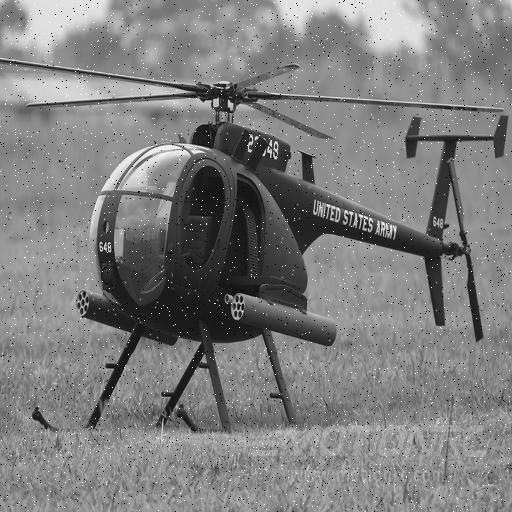helicopter: (8, 50, 512, 447)
